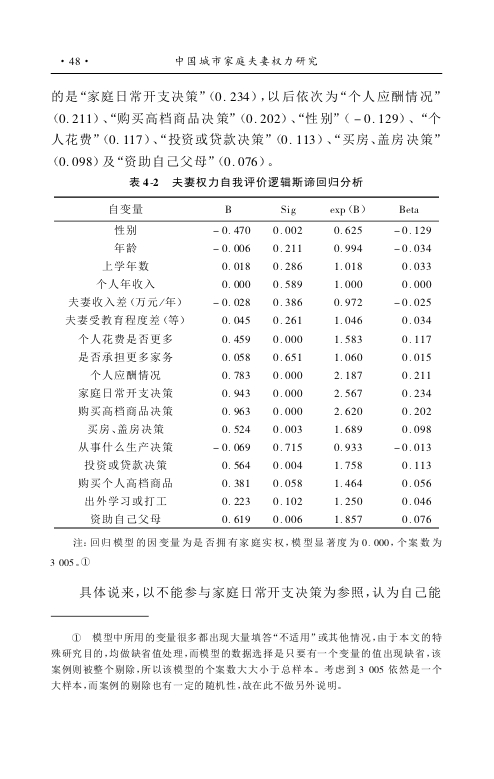table: (54, 196, 439, 529)
